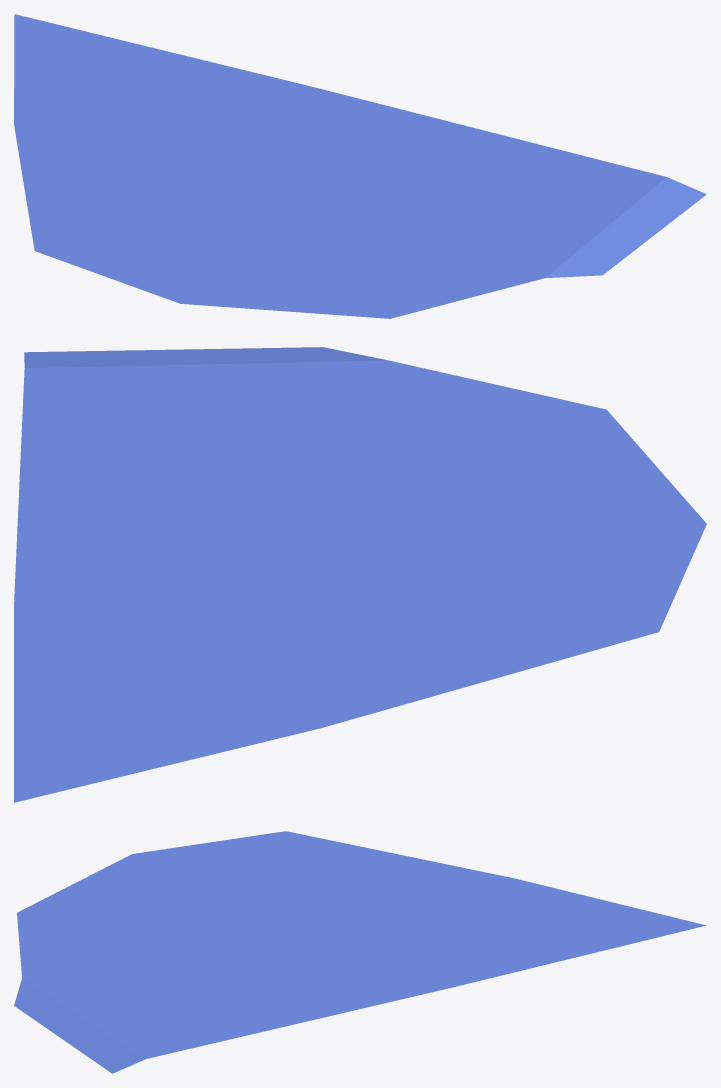
The model's file is hielo2.fbx.
3 views of the same model, one above another, from view 1: azimuth 30°, elevation 25°; view 2: azimuth 150°, elevation 25°; view 3: azimuth 270°, elevation 25° (orthographic). The views are drawn at different scales.
Parts seen in each view (by area): view 1: Cylinder002; view 2: Cylinder002; view 3: Cylinder002.
Part boxes in pixels (x1,y1,x2,y2): Cylinder002: (14,14,706,318); Cylinder002: (14,347,706,802); Cylinder002: (14,831,706,1073).
Bounding box in the file's own units: 41.5 × 0.5284 × 51.44.
